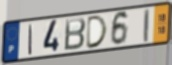4: (42, 18, 63, 55)
6: (109, 10, 131, 48)
B: (63, 17, 87, 52)
D: (85, 14, 109, 51)
I: (143, 8, 151, 44), (28, 24, 34, 56)
